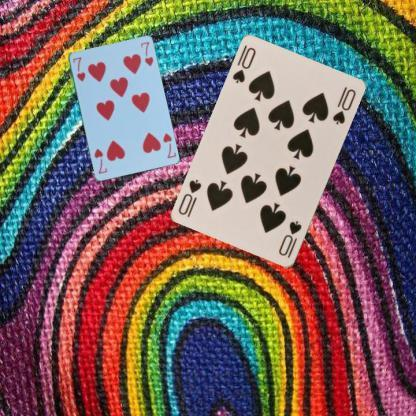10s: (276, 218, 304, 260), (230, 45, 258, 86)
7h: (160, 130, 177, 160), (70, 54, 86, 83)
